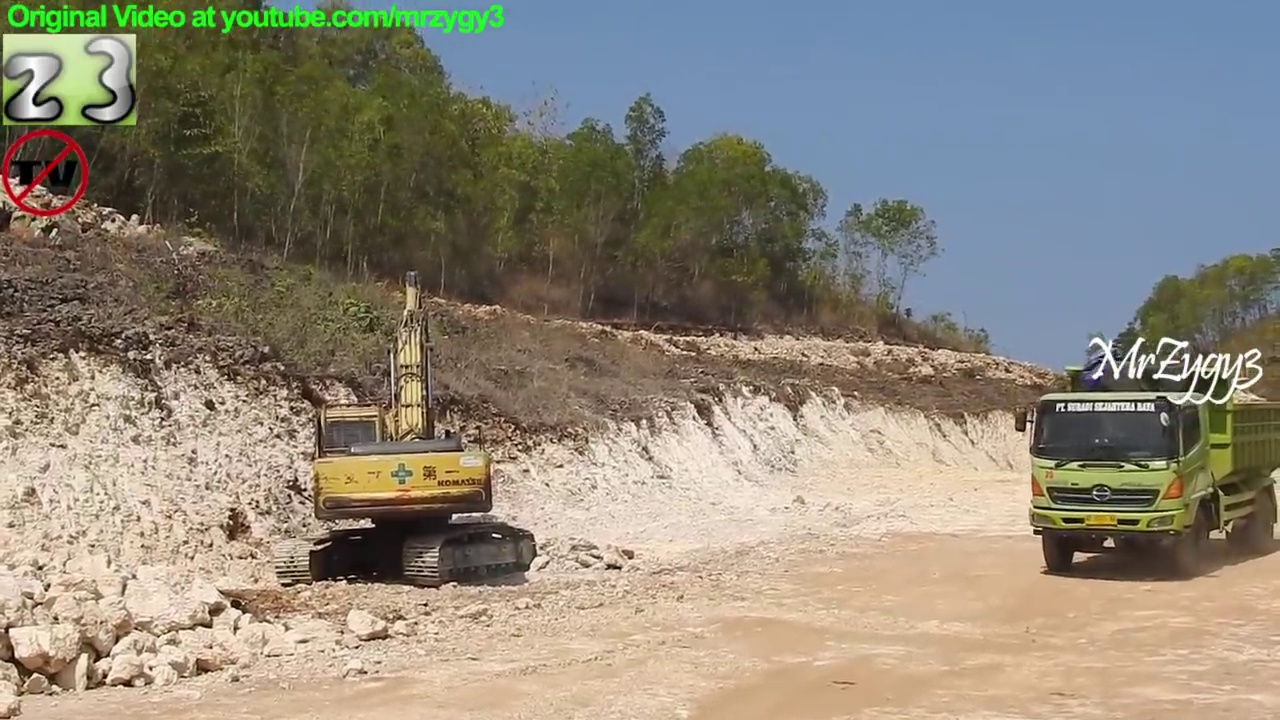excavator breaker: (265, 264, 544, 593)
truck: (1010, 361, 1280, 582)
